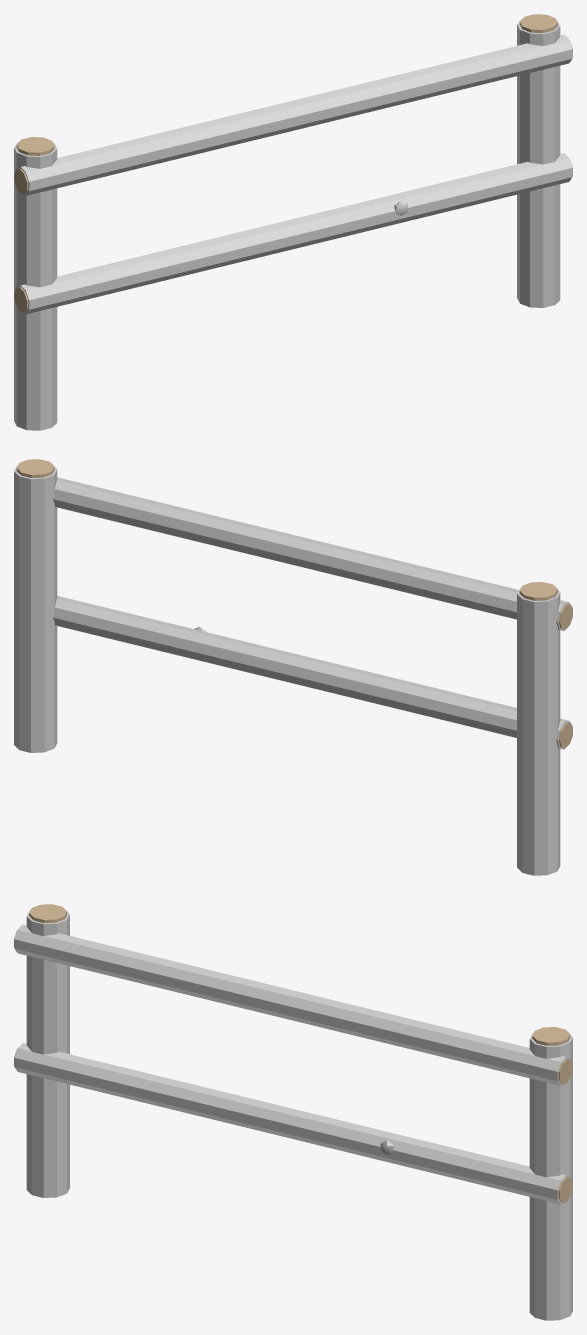
Rendered from fence_log.glb.
The picture shows the model from 3 angles, top to bottom: view 1: azimuth 30°, elevation 25°; view 2: azimuth 150°, elevation 25°; view 3: azimuth 330°, elevation 25°; orthographic projection.
Visible parts, largest first — view 1: fence_log_body; view 2: fence_log_body; view 3: fence_log_body.
Boxes of the visible parts, left/top/right/bottom form: fence_log_body: left=14, top=14, right=572, bottom=430; fence_log_body: left=14, top=459, right=572, bottom=875; fence_log_body: left=14, top=904, right=572, bottom=1320.
Size of what is drawn, in the model's own units: 2.17 by 1.05 by 0.1766.
